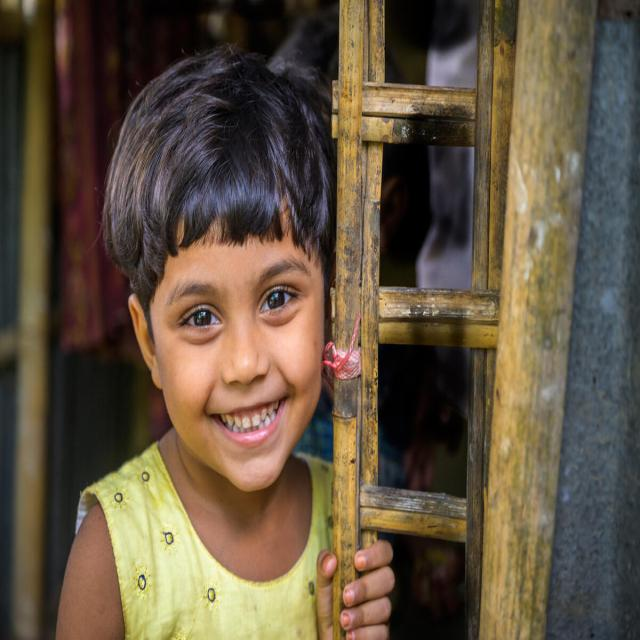child: (59, 51, 394, 640)
